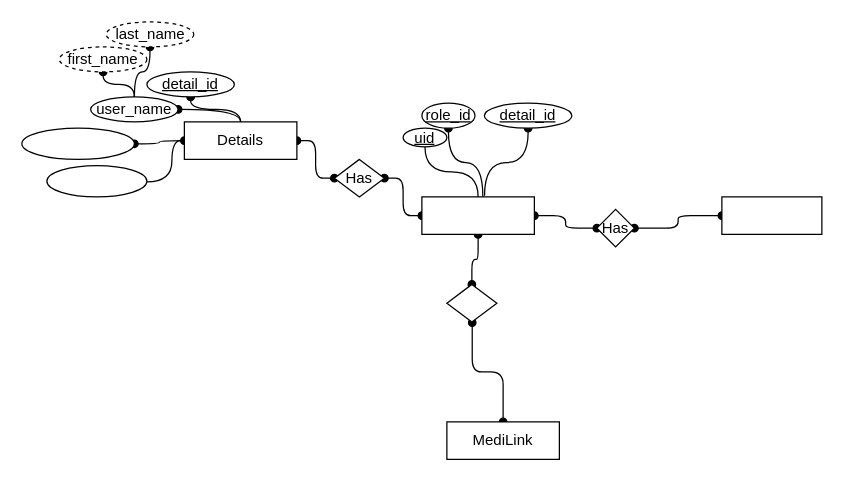
Some shapes in this 844 by 481 pixel diagram are drawn without their labels. Here are the shapes that lost their labels. From the top down, the box of each, then its label:
(21, 127, 134, 159): phone_number
(46, 164, 147, 197): email
(421, 196, 534, 234): User
(721, 196, 822, 234): Role
(446, 283, 497, 322): have
